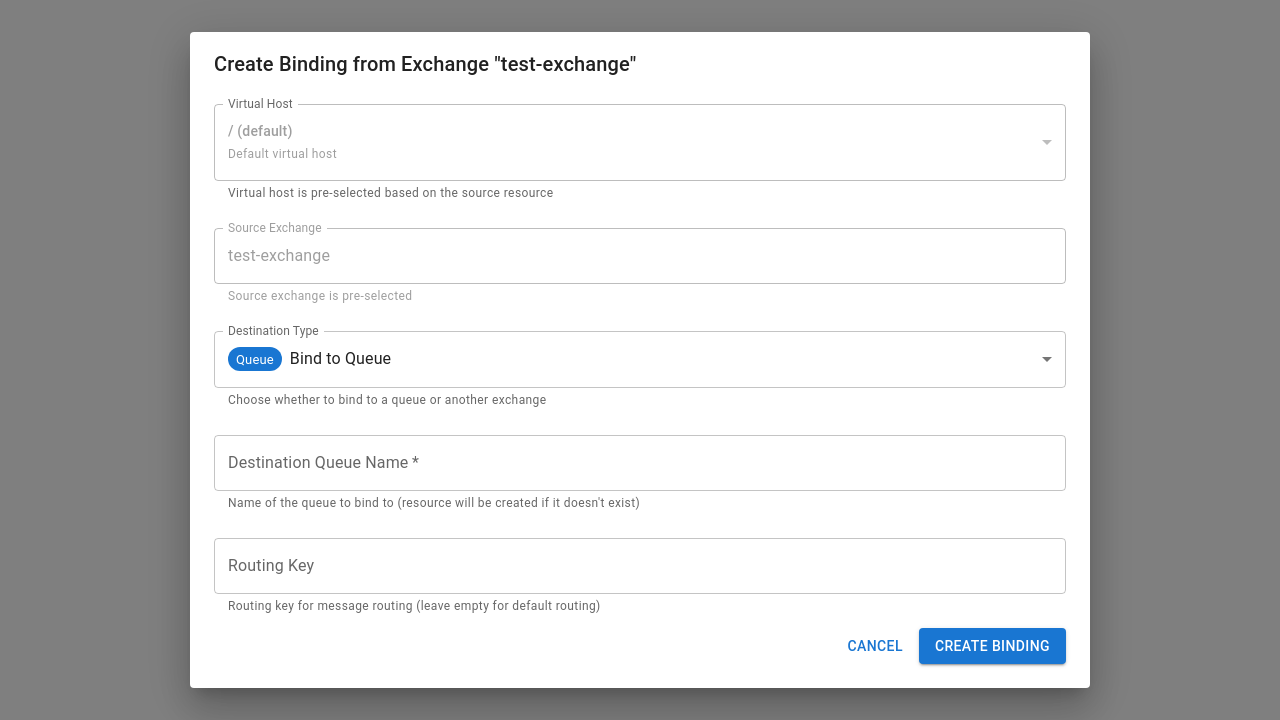
CreateBindingDialog › Form Validation › clears validation errors when user corrects input
# Trigger validation error
Click the button "Create Binding" at (992, 646), box [919,628,1066,664]
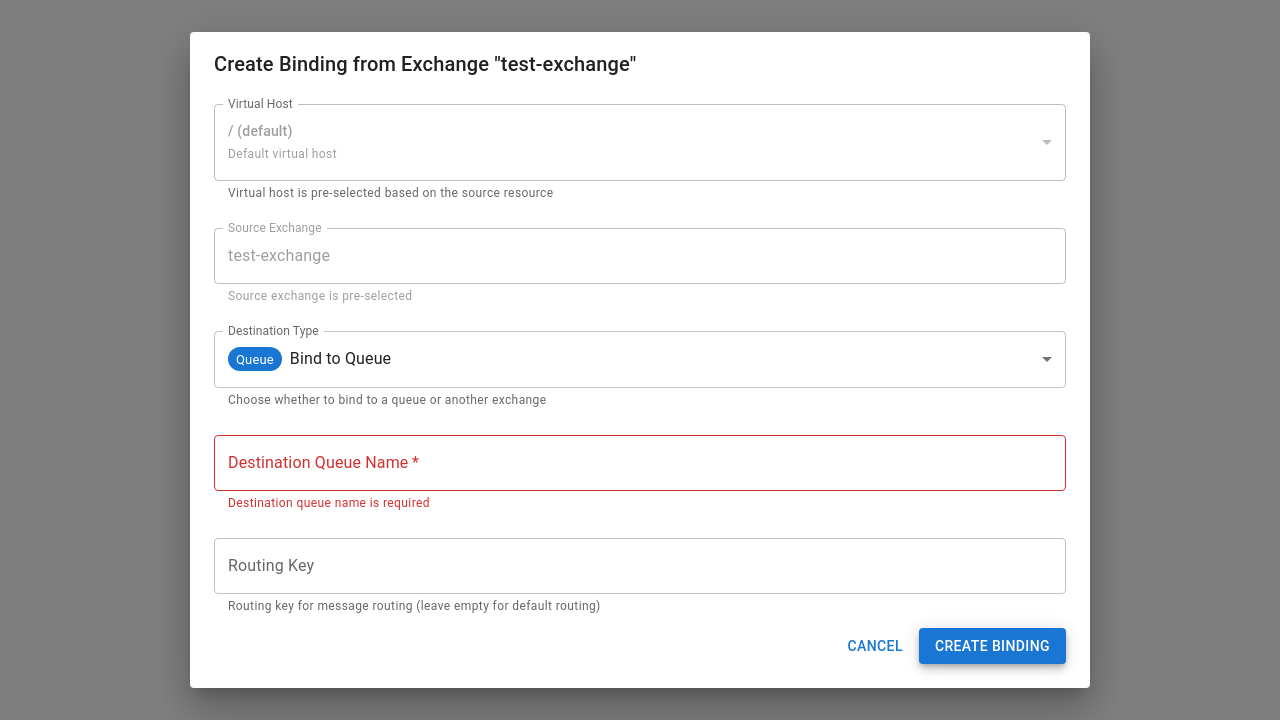
Check: the text "Destination queue name is required" is shown, box [228,496,430,510]
Type "valid-queue" into the field labelled "Destination Queue Name *" at (640, 463), box [214,435,1066,491]
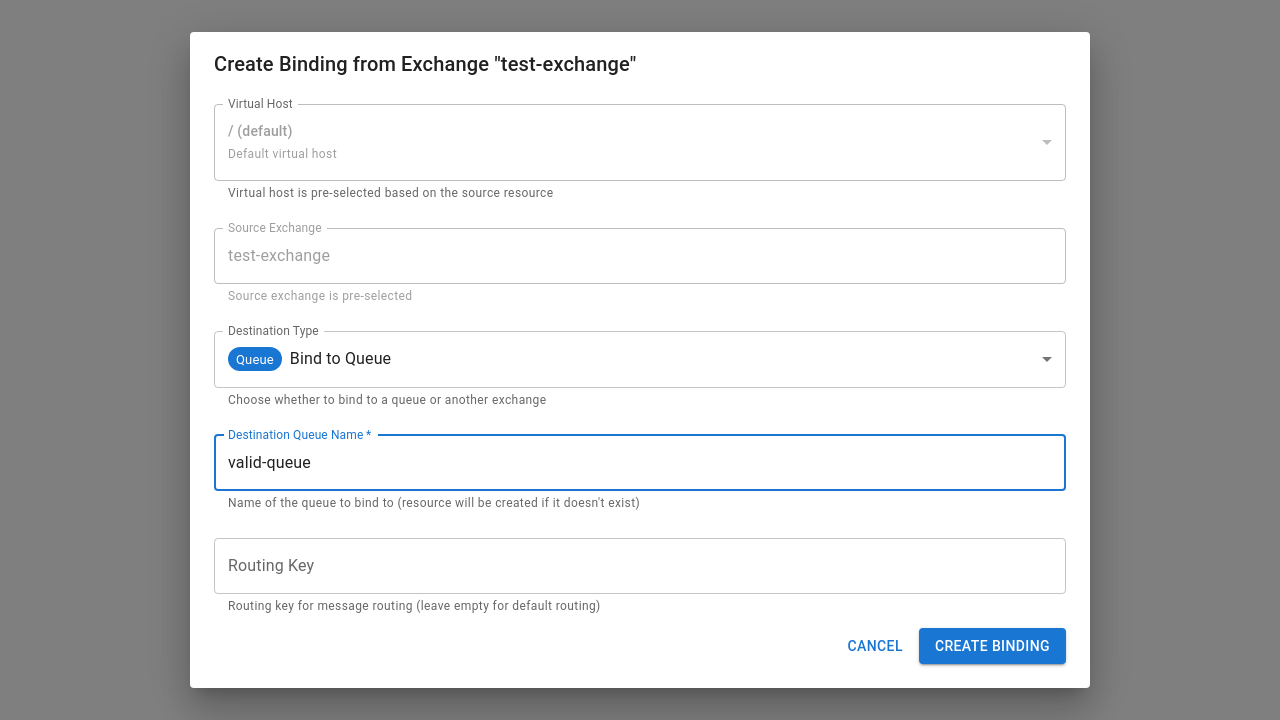
Check: the text "Destination queue name is required" is gone
